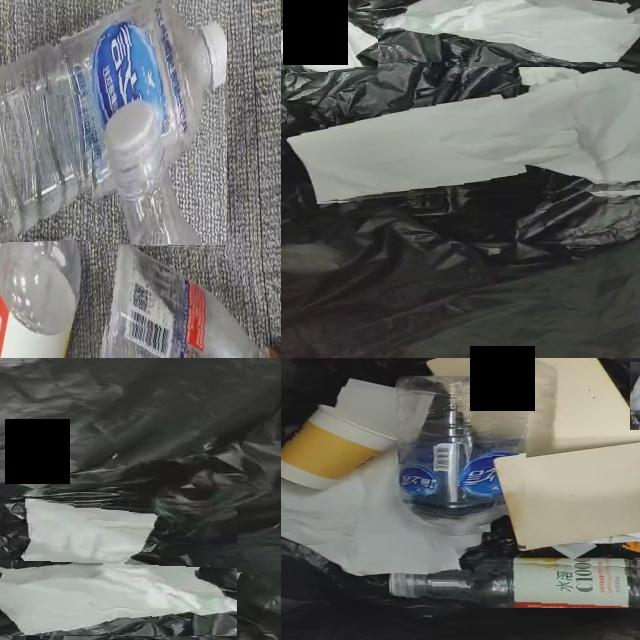bottle: (0, 1, 226, 244), (0, 95, 92, 358), (397, 376, 526, 552), (107, 244, 281, 358), (390, 562, 640, 608)
carton: (427, 358, 640, 458), (496, 442, 640, 548)
dixie_cup: (281, 406, 396, 488)
paper: (288, 67, 640, 203), (0, 500, 237, 635), (281, 452, 459, 576), (0, 564, 237, 635), (389, 0, 640, 62), (281, 16, 378, 74), (332, 379, 400, 440), (553, 532, 640, 558)
